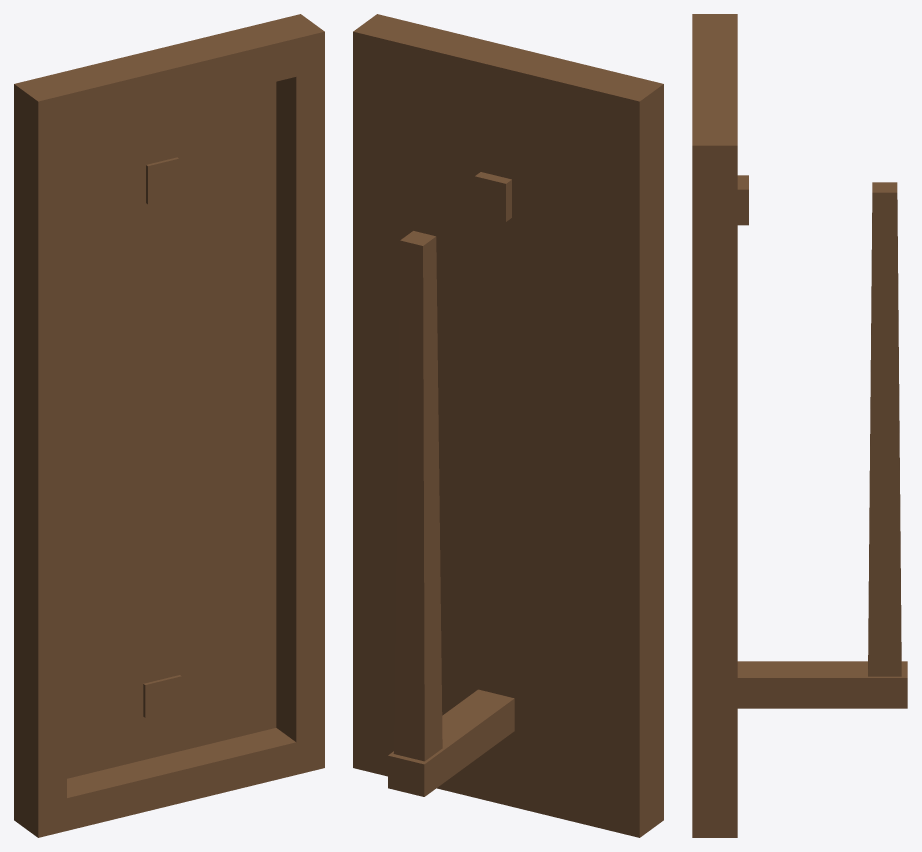
The model's file is mirror_frame.fbx.
3 renders of one model, left to right at view 1: azimuth 30°, elevation 25°; view 2: azimuth 150°, elevation 25°; view 3: azimuth 270°, elevation 25°, orthographic. The views are drawn at different scales.
Parts seen in each view (by area): view 1: MirrorFrame; view 2: MirrorFrame; view 3: MirrorFrame.
Part boxes in pixels (box(x1,y1,x2,y2)): MirrorFrame: box(14, 14, 324, 837); MirrorFrame: box(353, 14, 663, 837); MirrorFrame: box(692, 14, 907, 837).
Bounding box in the file's own units: 0.55 × 1.35 × 0.38.
